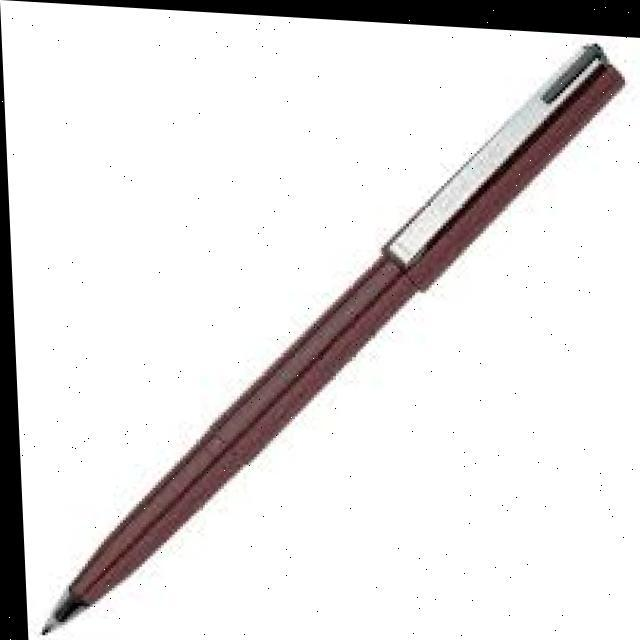pen: (9, 3, 640, 640)
